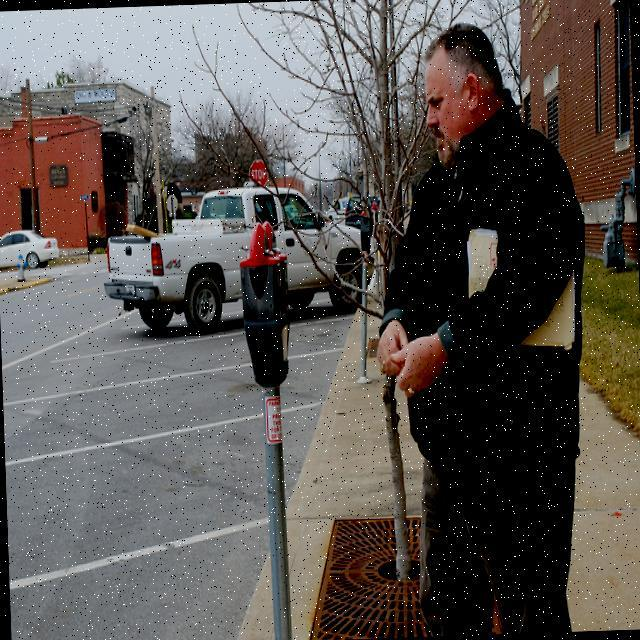fire_hydrant: (16, 252, 27, 280)
